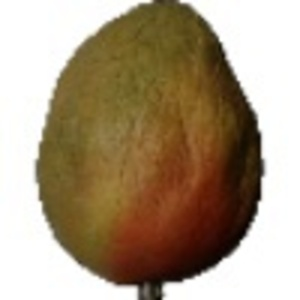mamão: (32, 4, 270, 294)
